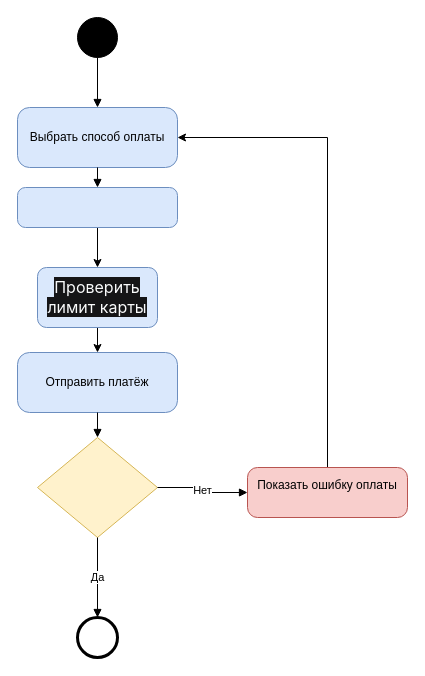
This 425x676 diagram has some shape labels left out. The box of each missing label's shape, as (x1, y1, x2, y2) in pixels:
Ввести данные карты: (16, 186, 178, 228)
Оплата прошла?: (36, 436, 158, 538)
